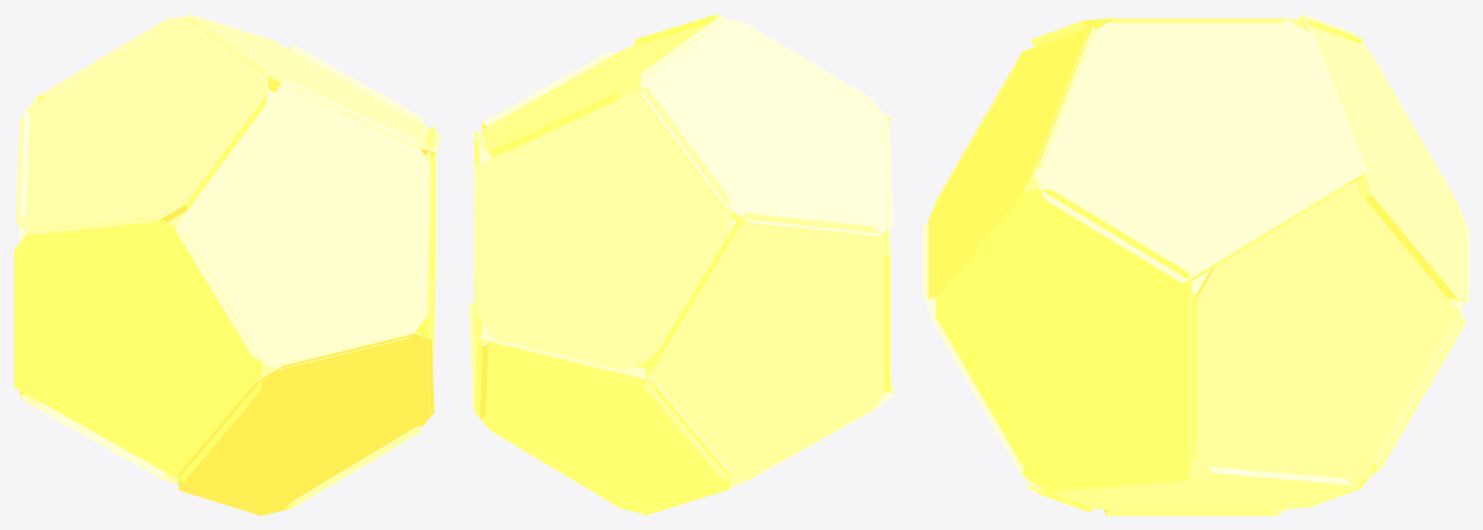
Rendered from FerroIcosohedron.fbx.
The picture shows the model from 3 angles, left to right: view 1: azimuth 30°, elevation 25°; view 2: azimuth 150°, elevation 25°; view 3: azimuth 270°, elevation 25°; orthographic projection. The views are drawn at different scales.
Visible parts, largest first — view 1: Solid; view 2: Solid; view 3: Solid.
Boxes of the visible parts, box(x1,y1,x2,y2) form: Solid: box(14, 14, 440, 515); Solid: box(469, 14, 894, 515); Solid: box(923, 14, 1468, 515).
Bounding box in the file's own units: 189 × 190 × 189.
